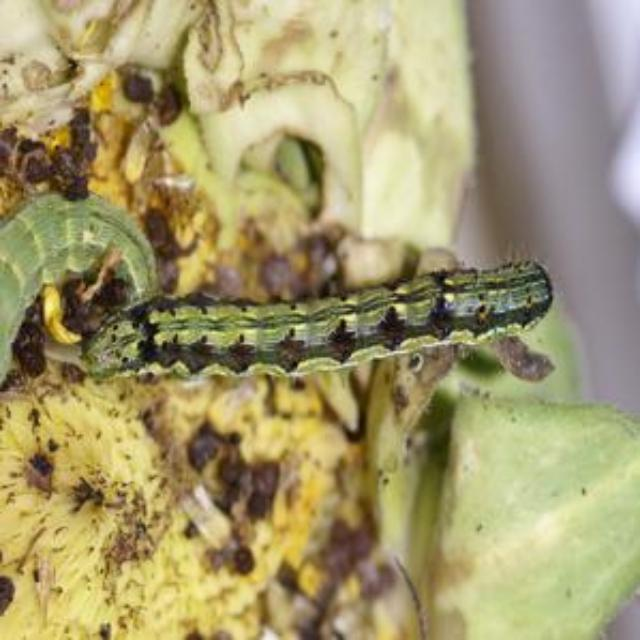Cotton bollworm: (80, 174, 572, 436)
